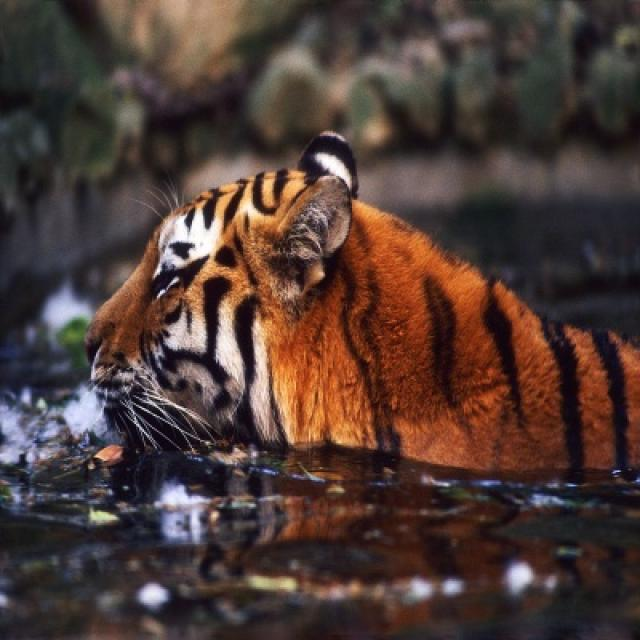Tiger: (85, 131, 638, 478)
